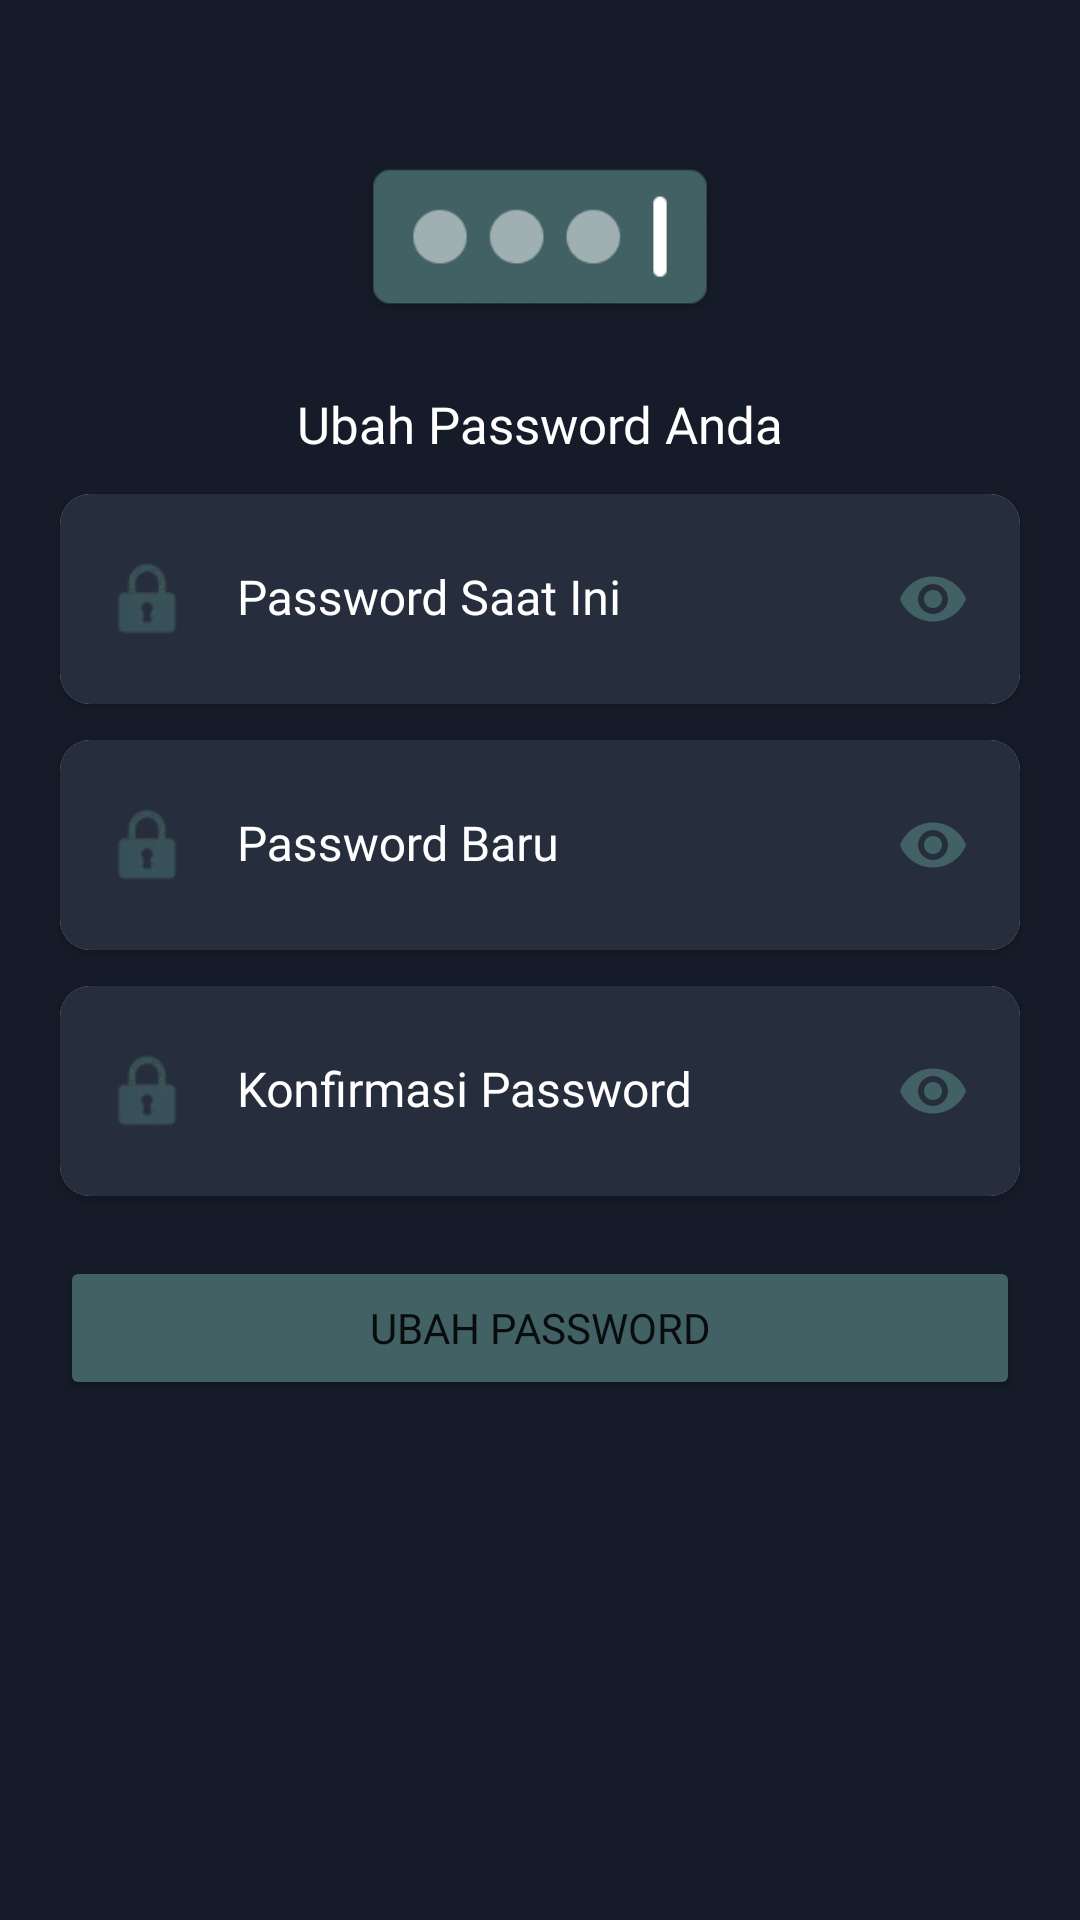

Screen size 1080x1920. Icon name, then its center in pixels as (x=x, y=y):
lock: (x=147, y=598), (x=147, y=844), (x=147, y=1090)
